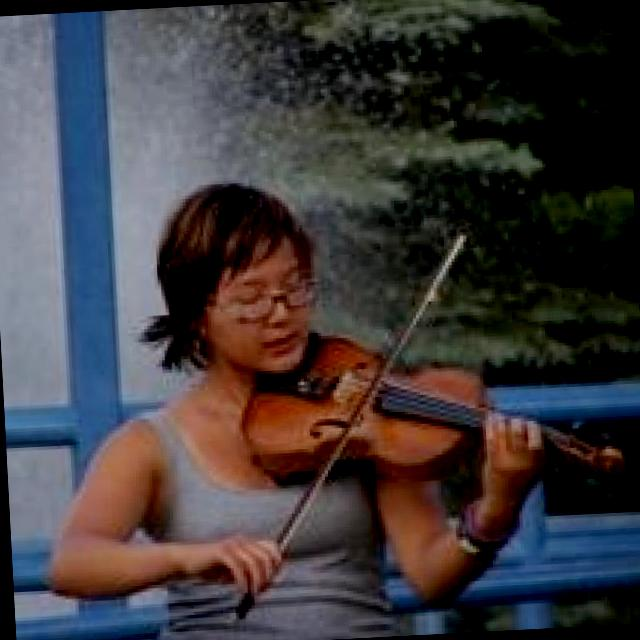no_vest: (107, 369, 448, 640)
